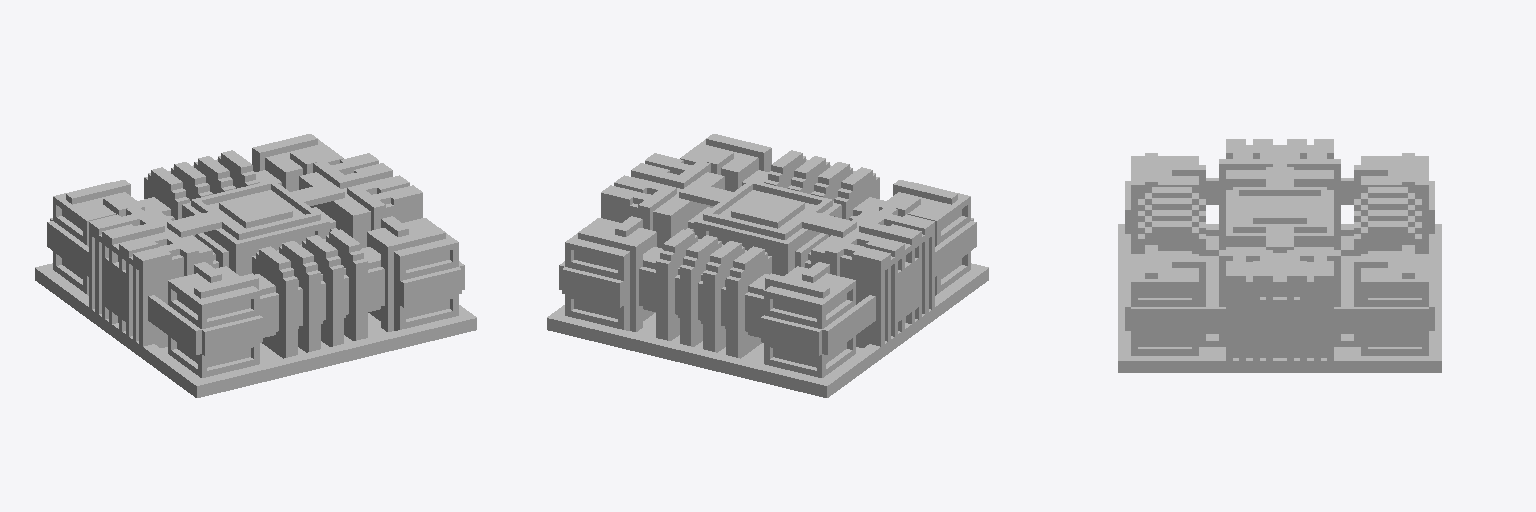
Rendered from metalizer.obj.
3 views of the same model, side by side, from view 1: azimuth 30°, elevation 25°; view 2: azimuth 150°, elevation 25°; view 3: azimuth 270°, elevation 25° (orthographic).
Parts seen in each view (by area): view 1: Metalizer; view 2: Metalizer; view 3: Metalizer.
Part boxes in pixels (left/top/right/bottom): Metalizer: left=35, top=134, right=476, bottom=397; Metalizer: left=547, top=134, right=988, bottom=397; Metalizer: left=1118, top=139, right=1441, bottom=372.
Size of the model in its own units: 48 by 16 by 48.